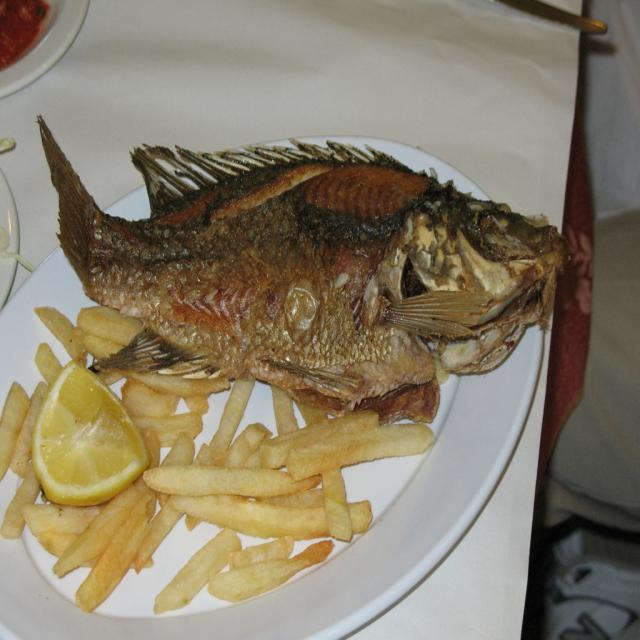Lemon: (18, 377, 144, 514)
